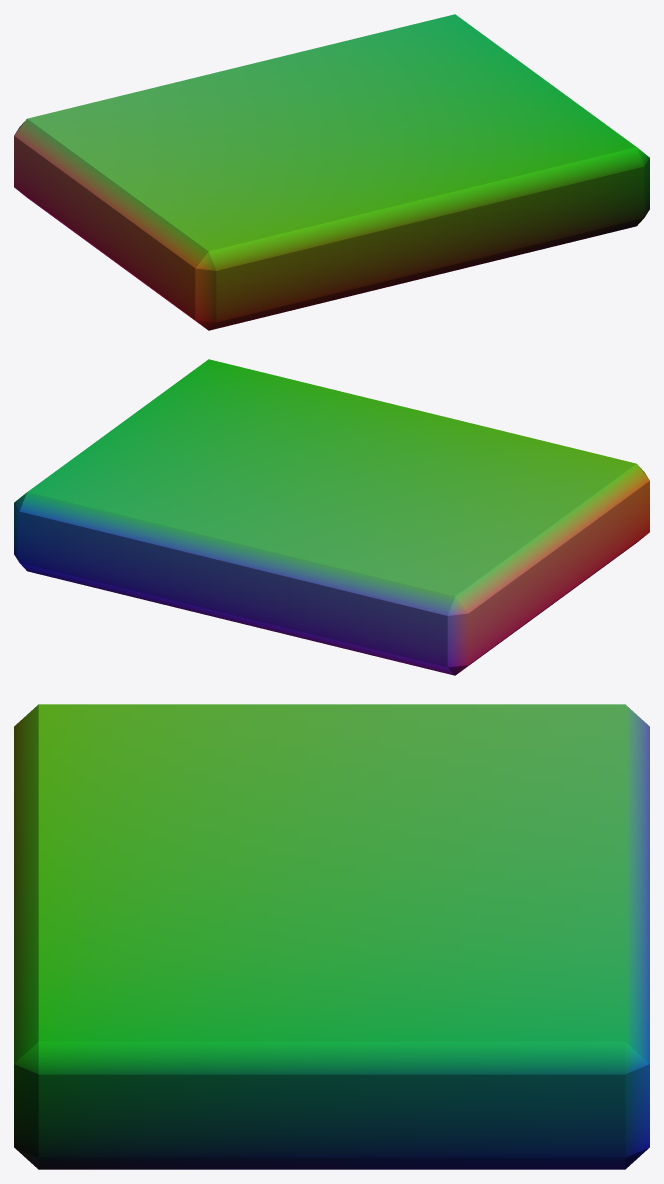
The model's file is Tile.fbx.
The picture shows the model from 3 angles, top to bottom: view 1: azimuth 30°, elevation 25°; view 2: azimuth 150°, elevation 25°; view 3: azimuth 270°, elevation 25°; orthographic projection. The views are drawn at different scales.
Visible parts, largest first — view 1: Tile; view 2: Tile; view 3: Tile.
Boxes of the visible parts, <box> form: Tile: <box>14,14,649,330</box>; Tile: <box>14,359,649,675</box>; Tile: <box>14,704,649,1169</box>.
Bounding box in the file's own units: 0.012 × 0.002 × 0.009.
